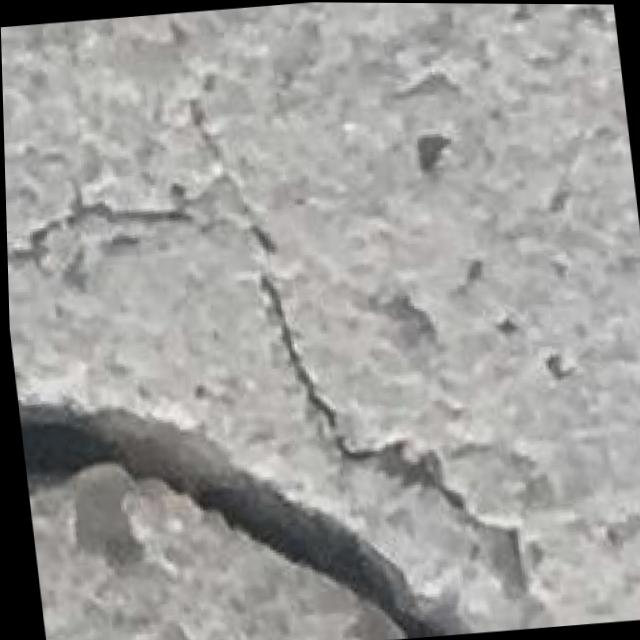Crack: (13, 363, 459, 640), (303, 376, 561, 625), (2, 84, 288, 290), (228, 267, 326, 402)
